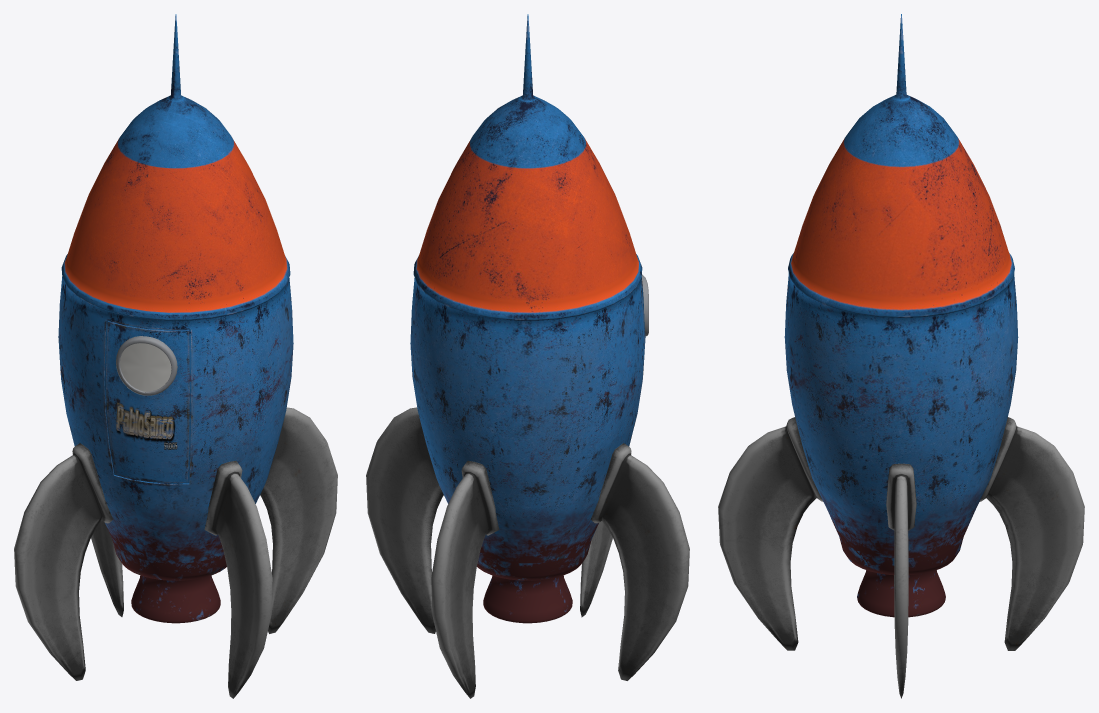
File: rocket.glb
The picture shows the model from 3 angles, left to right: view 1: azimuth 30°, elevation 25°; view 2: azimuth 150°, elevation 25°; view 3: azimuth 270°, elevation 25°; orthographic projection.
Visible parts, largest first — view 1: CUERPO (×2), ALERONES, VENTANA; view 2: CUERPO (×2), ALERONES; view 3: CUERPO (×2), ALERONES.
Part boxes in pixels (x1,y1,x2,y2): CUERPO (×2): (58,14,293,623); ALERONES: (14,407,337,698); VENTANA: (116,336,177,395); CUERPO (×2): (410,14,645,623); ALERONES: (366,407,689,698); CUERPO (×2): (784,14,1018,617); ALERONES: (718,417,1084,698).
Size of what is drawn, in the model's own units: 0.4545 by 0.8706 by 0.4545.
4 materials, 4 textured.
